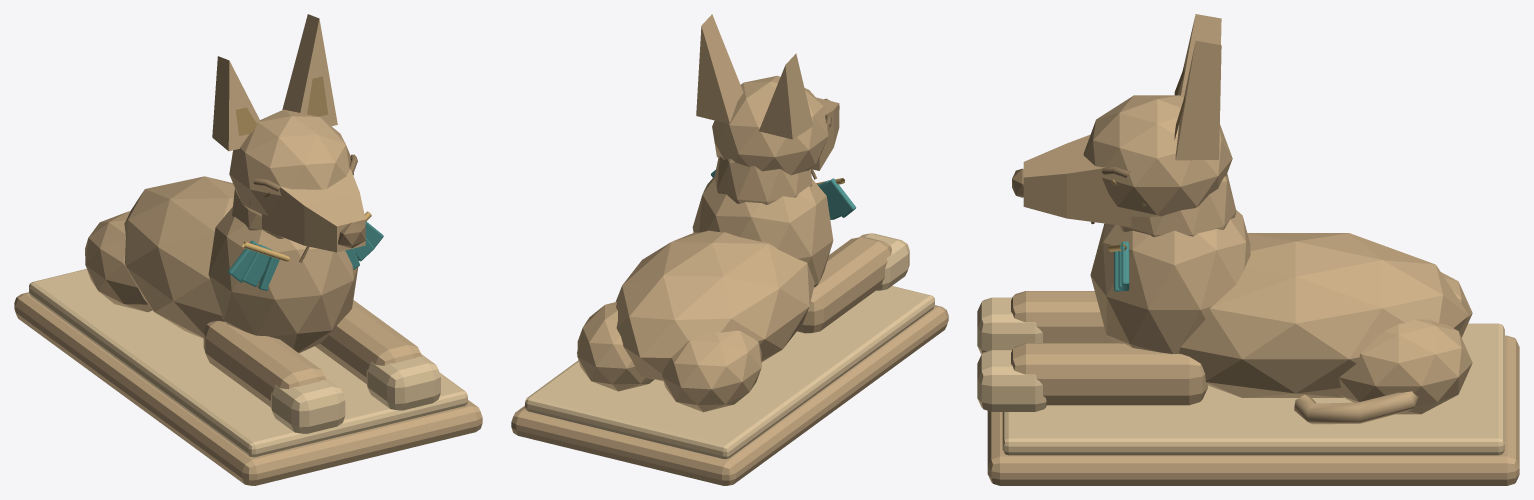
Rendered from JackalGuardian.fbx.
3 renders of one model, left to right at view 1: azimuth 30°, elevation 25°; view 2: azimuth 150°, elevation 25°; view 3: azimuth 270°, elevation 25°, orthographic. The views are drawn at different scales.
Parts seen in each view (by area): view 1: JackalGuardian; view 2: JackalGuardian; view 3: JackalGuardian.
Part boxes in pixels (bbox=[...]): JackalGuardian: bbox=[14, 14, 482, 485]; JackalGuardian: bbox=[511, 14, 948, 485]; JackalGuardian: bbox=[977, 14, 1519, 485].
Size of the model in its own units: 250 by 365 by 438.
